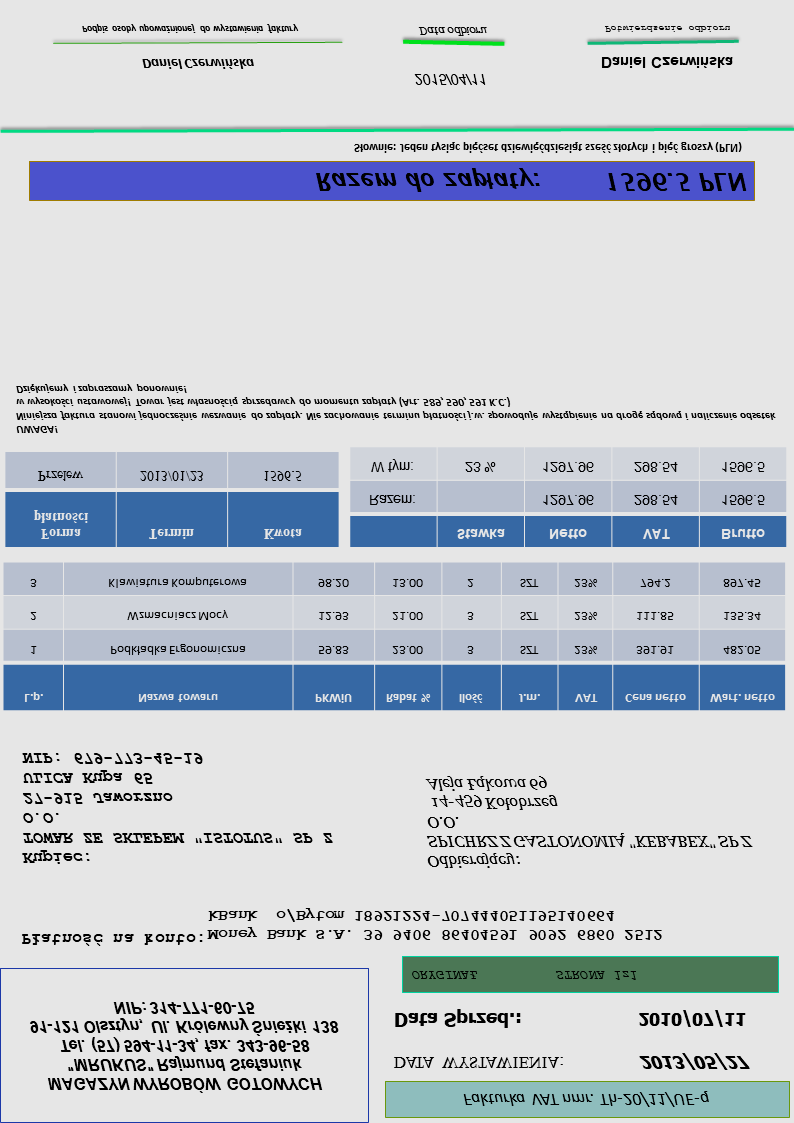Table: (1, 557, 791, 713), (349, 442, 788, 551), (4, 450, 341, 550)
TextBox: (10, 378, 778, 438), (18, 749, 337, 866), (423, 773, 755, 872), (24, 995, 346, 1094), (206, 908, 665, 944), (309, 166, 750, 198), (349, 140, 745, 158), (458, 1087, 713, 1110), (410, 966, 641, 987), (390, 1050, 566, 1075), (16, 930, 208, 950), (78, 20, 301, 37), (391, 1008, 524, 1032), (597, 51, 735, 72), (632, 1051, 752, 1074), (634, 1007, 749, 1031), (599, 23, 734, 37), (138, 57, 256, 73), (410, 72, 487, 89), (416, 25, 490, 38)
